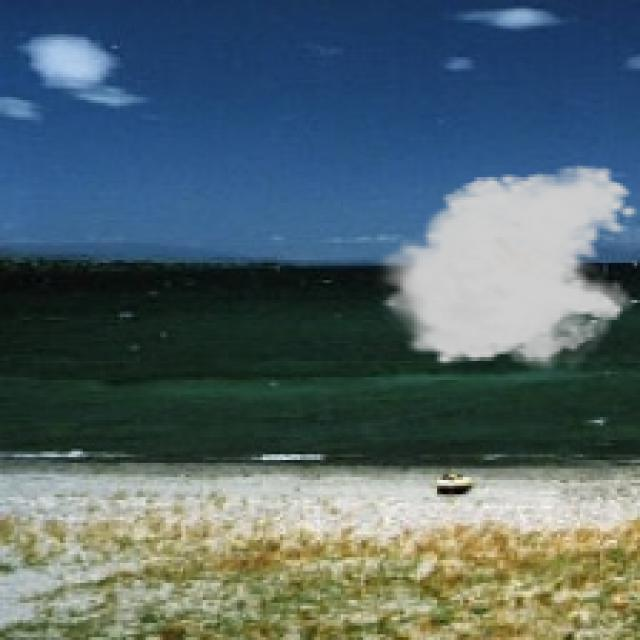smoke: (372, 163, 637, 380)
